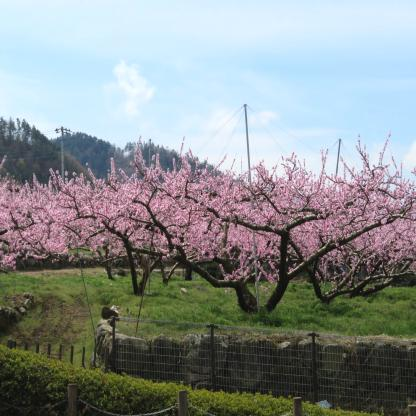Momo: (134, 132, 321, 280), (296, 129, 416, 293), (52, 152, 146, 266), (0, 156, 57, 270)
